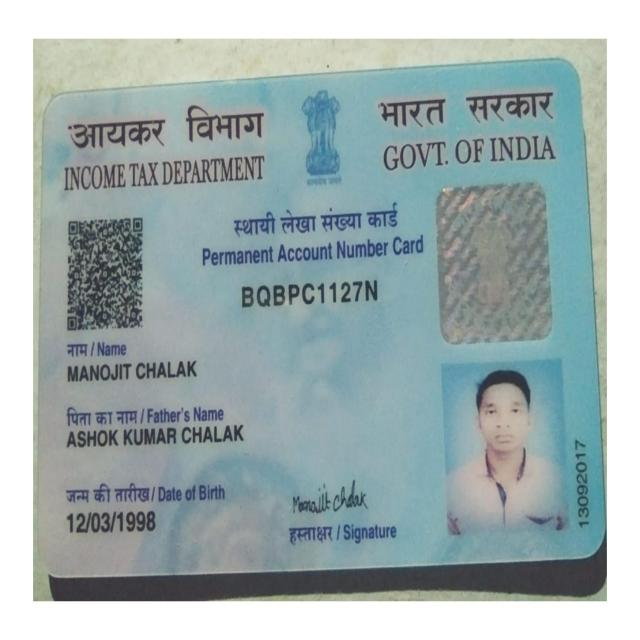pan_card: (49, 65, 597, 576)
